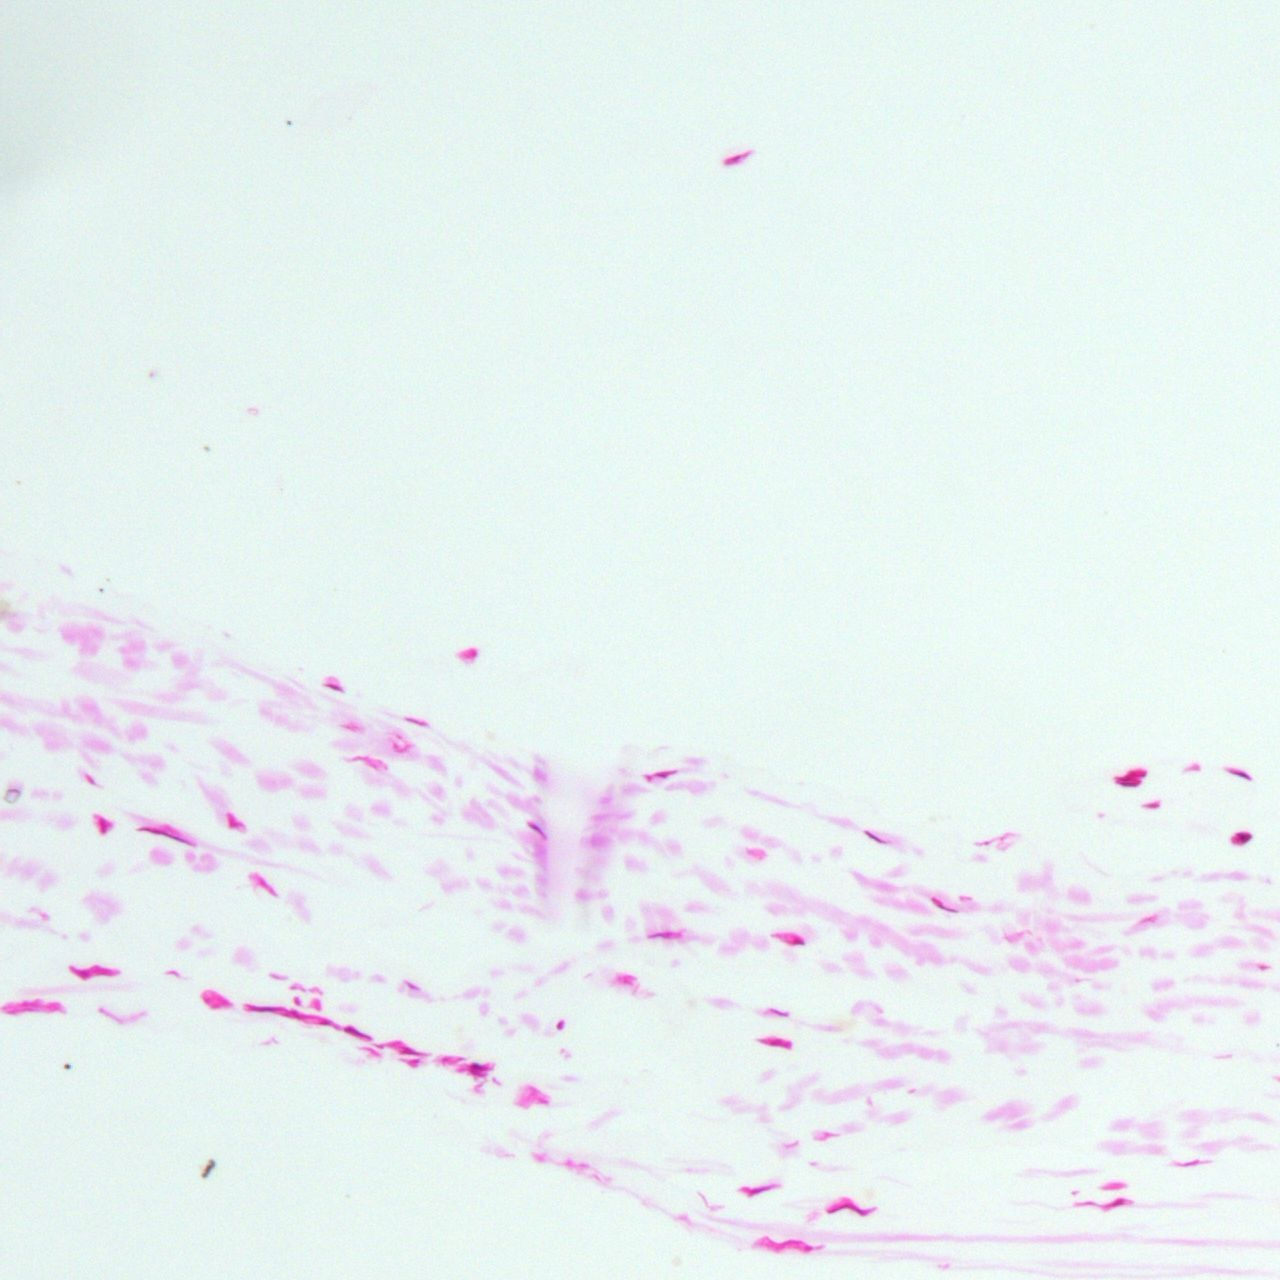dust: (196, 1156, 218, 1182), (203, 444, 211, 454), (63, 1063, 72, 1070), (285, 118, 291, 127), (98, 587, 104, 592)
nucleus-FG: (137, 825, 193, 847), (69, 965, 116, 979), (826, 1201, 867, 1216), (745, 1182, 776, 1198), (1225, 764, 1252, 781), (345, 1026, 372, 1041), (1102, 1196, 1129, 1211), (726, 151, 750, 166), (256, 876, 274, 896), (863, 829, 884, 846), (934, 900, 956, 915), (527, 822, 547, 838), (1177, 1158, 1207, 1167), (771, 1040, 794, 1051), (653, 769, 678, 779), (8, 1007, 35, 1016), (247, 1005, 280, 1012), (324, 682, 343, 693), (363, 1046, 381, 1057), (400, 1049, 428, 1056), (648, 931, 669, 940), (1235, 831, 1251, 844), (770, 1007, 788, 1017), (406, 716, 424, 726), (403, 980, 420, 990), (1115, 772, 1139, 779), (84, 772, 96, 787), (96, 817, 107, 832), (468, 1070, 486, 1078), (1115, 781, 1141, 787), (468, 1063, 488, 1069), (556, 1019, 565, 1030), (1143, 803, 1160, 809), (229, 822, 243, 828), (293, 1009, 301, 1019), (400, 1046, 413, 1051), (408, 1058, 418, 1065), (792, 939, 804, 945), (294, 996, 301, 1006), (1258, 964, 1268, 969), (320, 1020, 329, 1026)
